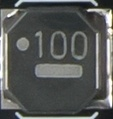Induktor: (2, 8, 109, 114)
